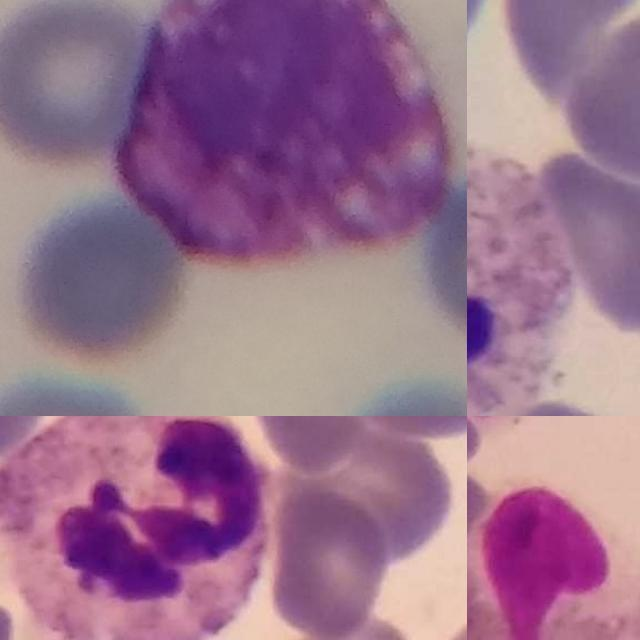Basophil: (121, 0, 450, 266)
Eosinophil: (467, 477, 640, 640)
Neutrophil: (0, 416, 269, 640), (467, 114, 574, 416)
